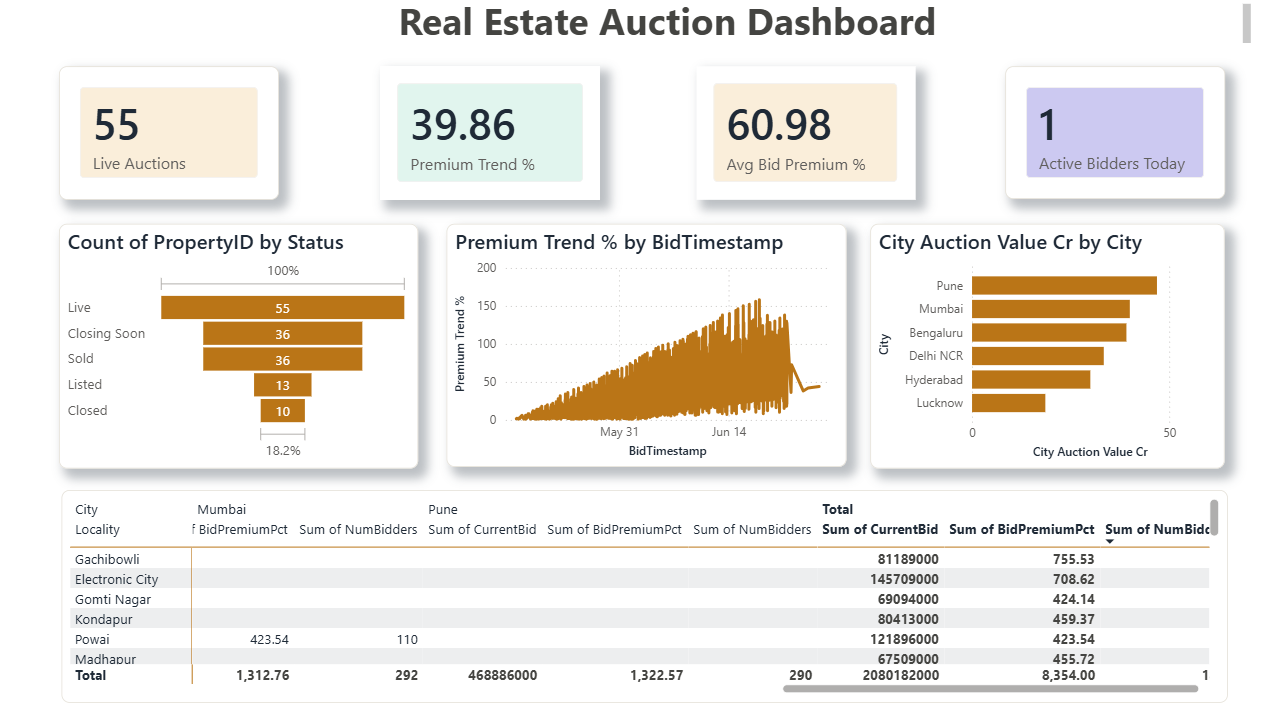

The dashboard page shown, as its layout file describes it:
{"tool":"powerbi","page":{"name":"Page 1","canvas":[1280,720],"ordinal":0},"visuals":[{"type":"cardVisual","fields":{"Data":["Properties.Premium Trend %"]},"box":[386.4,70.9,220.1,133.3],"z":0},{"type":"cardVisual","fields":{"Data":["Properties.Avg Bid Premium %"]},"box":[701.9,70.9,218.9,133.3],"z":1000},{"type":"textbox","box":[40.4,0,1221.6,53.8],"z":2000},{"type":"cardVisual","fields":{"Data":["Properties.Live Auctions"]},"box":[64.8,70.9,220.1,133.3],"z":4000},{"type":"funnel","fields":{"Category":["Properties.Status"],"Y":["CountNonNull(Properties.PropertyID)"]},"box":[64.8,228.7,359.5,244.6],"z":5000},{"type":"lineChart","fields":{"Category":["BidHistory.BidTimestamp"],"Y":["Properties.Premium Trend %"]},"box":[452.4,228.7,399.9,243.3],"z":6000},{"type":"clusteredBarChart","fields":{"Category":["Properties.City"],"Y":["Properties.City Auction Value Cr"]},"box":[876.8,228.7,354.6,244.6],"z":7000},{"type":"pivotTable","fields":{"Rows":["Properties.Locality"],"Columns":["Properties.City"],"Values":["Sum(Properties.CurrentBid)","Sum(Properties.BidPremiumPct)","Sum(Properties.NumBidders)"]},"box":[67.3,495.2,1166.6,212.8],"z":8000},{"type":"cardVisual","fields":{"Data":["BidHistory.Active Bidders Today"]},"box":[1011.3,70.9,220,133],"z":8001}]}

Visuals, with their boxes in screenshot pixels (x1, y1, x2, y2), scaled from the page's 1280x720 canvas onto the 1263x711 screenshot:
cardVisual - Properties.Premium Trend %: box=[381, 70, 598, 202]
cardVisual - Properties.Avg Bid Premium %: box=[693, 70, 909, 202]
textbox: box=[40, 0, 1245, 53]
cardVisual - Properties.Live Auctions: box=[64, 70, 281, 202]
funnel - Properties.Status x CountNonNull(Properties.PropertyID): box=[64, 226, 419, 467]
lineChart - BidHistory.BidTimestamp x Properties.Premium Trend %: box=[446, 226, 841, 466]
clusteredBarChart - Properties.City x Properties.City Auction Value Cr: box=[865, 226, 1215, 467]
pivotTable - Properties.Locality x Properties.City: box=[66, 489, 1218, 699]
cardVisual - BidHistory.Active Bidders Today: box=[998, 70, 1215, 201]
